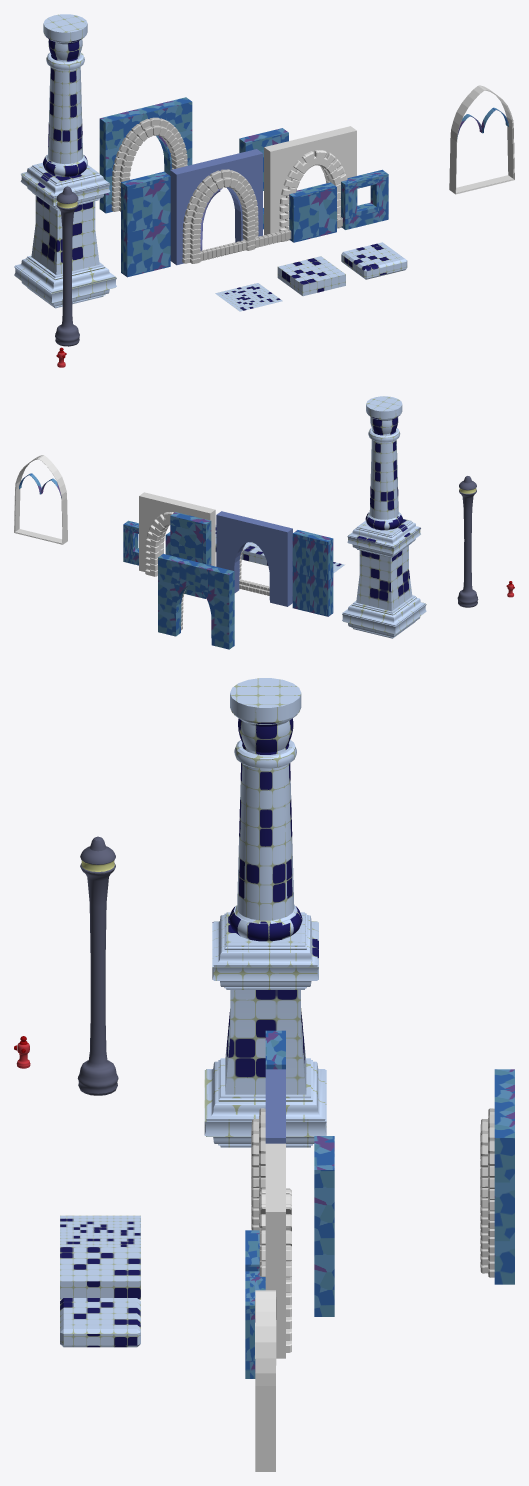
Rendered from World_Env_assets.fbx.
3 renders of one model, top to bottom at view 1: azimuth 30°, elevation 25°; view 2: azimuth 150°, elevation 25°; view 3: azimuth 270°, elevation 25°, orthographic. The views are drawn at different scales.
Visible parts, largest first — view 1: Cube, ArchDoorWay1, ArchBricks1.001, Cylinder.002, Wall2x2x0.5m.002, ArchDoorWay2, Wall2x2x0.5m.001, WallWindow2x2x0.5m.002, Street Lamp, Cylinder, Plane.001, ArchBricks2 (+4 smaller); view 2: Cube, ArchBricks1.001, ArchDoorWay1, Cylinder.002, Wall2x2x0.5m.002, WallWindow2x2x0.5m.001, ArchDoorWay2, Street Lamp, Cylinder, ArchBricks2, WallWindow2x2x0.5m.002, Plane.001 (+1 smaller); view 3: Cube, Cylinder.002, ArchBricks1.001, Street Lamp, Plane.001, Plane.002, Cylinder, WallWindow2x2x0.5m.001, ArchDoorWay2, ArchDoorWay1, Plane, ArchBricks2 (+1 smaller).
Part boxes in pixels (x1,y1,x2,y2): Cube: (14,162,116,308); ArchDoorWay1: (170,149,262,265); ArchBricks1.001: (99,97,192,213); Cylinder.002: (43,14,87,176); Wall2x2x0.5m.002: (121,171,170,277); ArchDoorWay2: (264,126,356,234); Wall2x2x0.5m.001: (289,182,336,242); WallWindow2x2x0.5m.002: (341,169,388,229); Street Lamp: (55,186,79,346); Cylinder: (449,85,514,194); Plane.001: (277,256,345,296); ArchBricks2: (279,150,347,241); Cube: (342,518,426,638); ArchBricks1.001: (158,554,234,649); ArchDoorWay1: (216,511,292,606); Cylinder.002: (365,396,402,530); Wall2x2x0.5m.002: (292,530,333,616); WallWindow2x2x0.5m.001: (170,512,211,598); ArchDoorWay2: (139,492,215,571); Street Lamp: (457,476,478,607); Cylinder: (14,455,67,544); ArchBricks2: (145,512,173,576); WallWindow2x2x0.5m.002: (123,520,138,565); Plane.001: (241,542,268,565); Cube: (204,912,326,1147); Cylinder.002: (229,678,302,941); ArchBricks1.001: (480,1069,514,1284); Street Lamp: (77,836,118,1095); Plane.001: (60,1247,140,1299); Plane.002: (60,1298,140,1347); Cylinder: (255,1290,276,1471); WallWindow2x2x0.5m.001: (314,1136,334,1316); ArchDoorWay2: (265,1143,285,1358); ArchDoorWay1: (251,1069,285,1230); Plane: (60,1215,140,1246); ArchBricks2: (259,1188,291,1352).
Size of the model in its own units: 2448 by 1193 by 1238.
